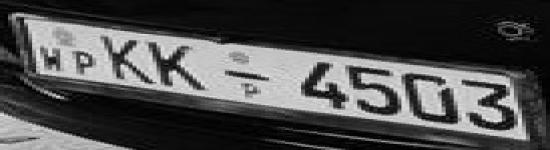-: (220, 63, 278, 85)
0: (401, 69, 462, 126)
3: (458, 76, 522, 132)
4: (286, 58, 350, 111)
5: (345, 60, 404, 117)
K: (148, 38, 214, 91), (97, 34, 152, 86)
P: (70, 49, 97, 76)
W: (37, 44, 68, 71)
